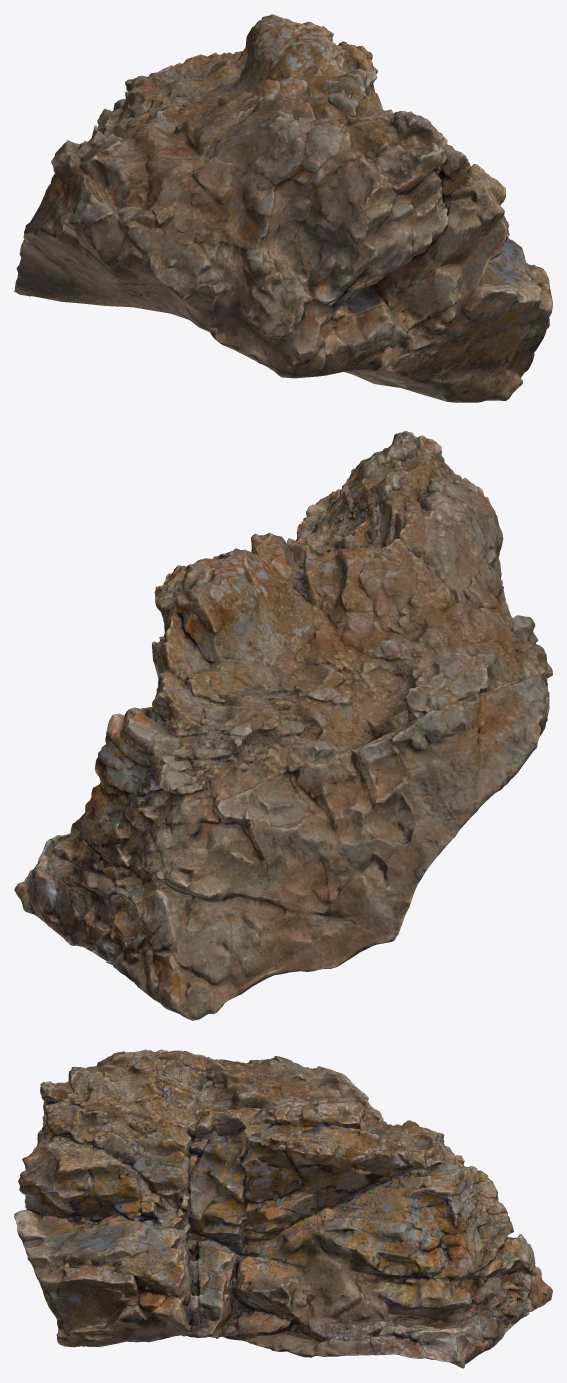
The model's file is ph-boulder_01.glb.
The picture shows the model from 3 angles, top to bottom: view 1: azimuth 30°, elevation 25°; view 2: azimuth 150°, elevation 25°; view 3: azimuth 270°, elevation 25°; orthographic projection. The views are drawn at different scales.
Visible parts, largest first — view 1: boulder_01; view 2: boulder_01; view 3: boulder_01.
Boxes of the visible parts, x1,y1,x2,y2 form: boulder_01: [14, 14, 552, 402]; boulder_01: [14, 431, 552, 1020]; boulder_01: [14, 1049, 552, 1368].
Size of the model in its own units: 1.27 by 1 by 1.83.
1 material, 1 textured.
